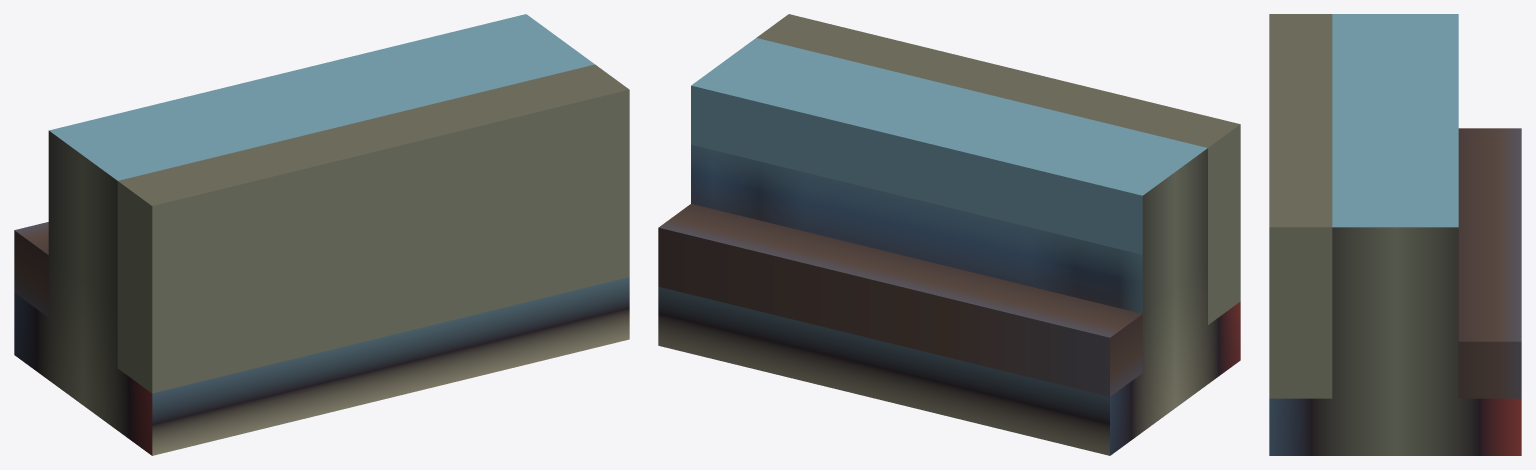
Rendered from casa1_cantonada_centre_dalt.fbx.
The picture shows the model from 3 angles, left to right: view 1: azimuth 30°, elevation 25°; view 2: azimuth 150°, elevation 25°; view 3: azimuth 270°, elevation 25°; orthographic projection. The views are drawn at different scales.
Parts seen in each view (by area): view 1: Wall1.015; view 2: Wall1.015; view 3: Wall1.015.
Boxes of the visible parts, x1,y1,x2,y2 form: Wall1.015: (14,14,629,455); Wall1.015: (658,14,1240,455); Wall1.015: (1269,14,1521,455).
Bounding box in the file's own units: 200 × 100 × 100.
